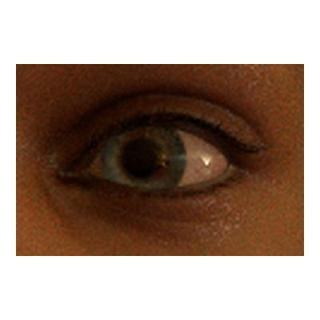pupil: (123, 140, 160, 177)
